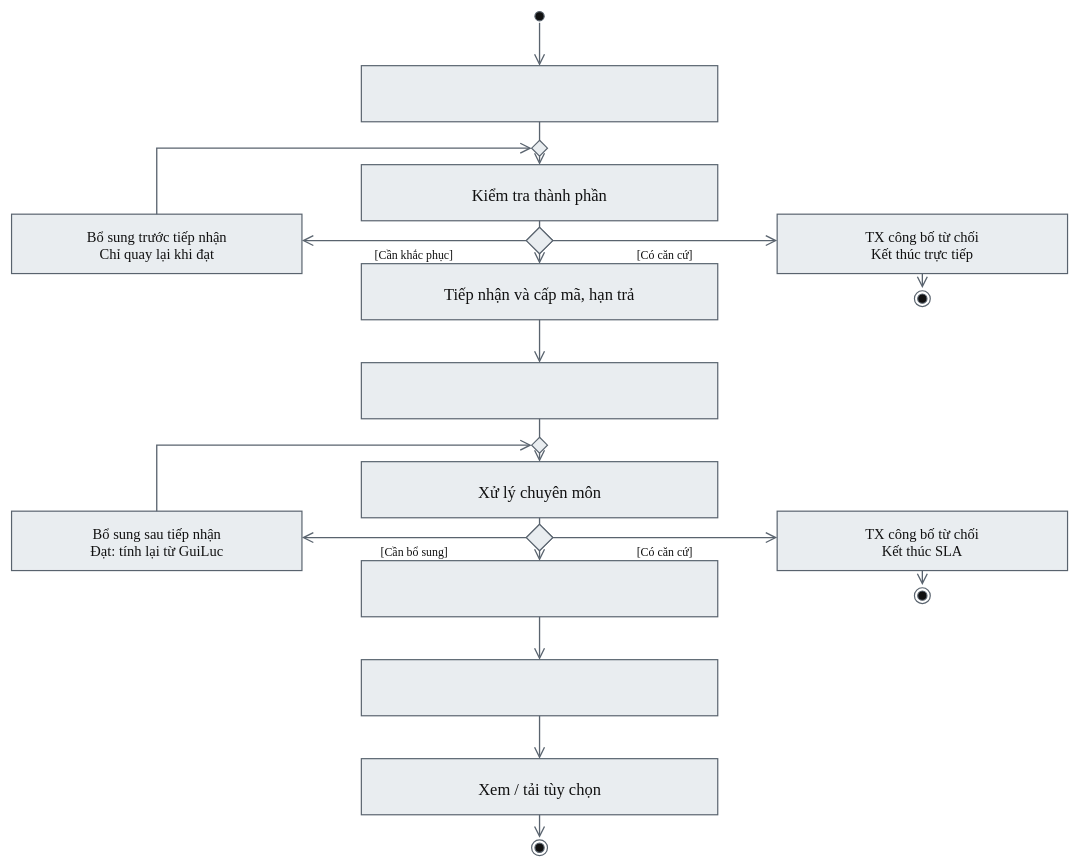
This 1080x868 diagram has some shape labels left out. The shapes that lost their labels are listed below. From the top down, each one's centre as x and y in pixels, then its label:
(x=539, y=93): Tạo và nộp hồ sơ
(x=539, y=390): Phân công xử lý
(x=539, y=588): Ghi kết quả chưa phát hành
(x=539, y=687): Tiếp nhận phát hành kết quả
